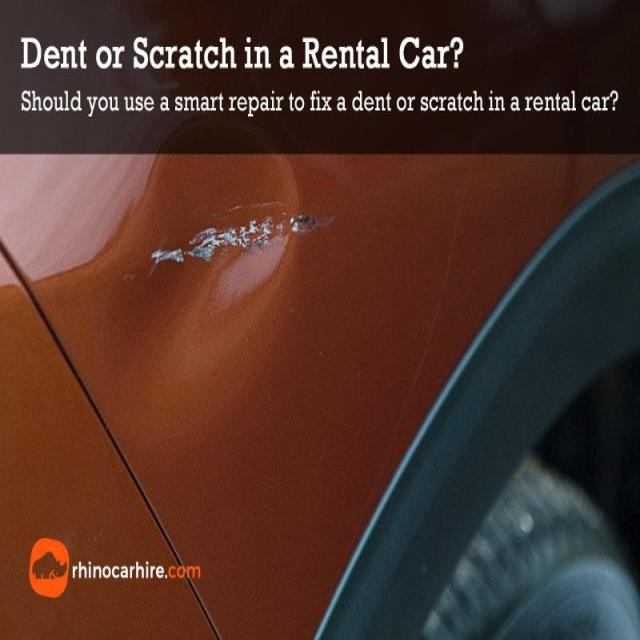dent: (98, 156, 309, 442)
